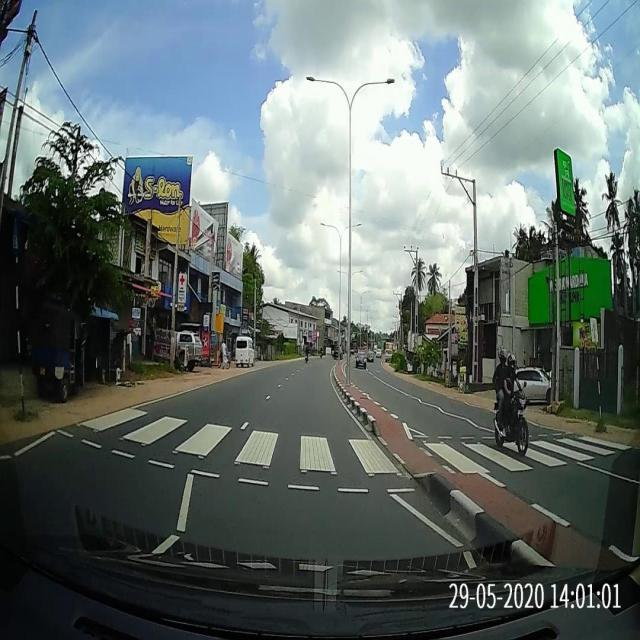Crosswalk: (46, 404, 640, 499)
